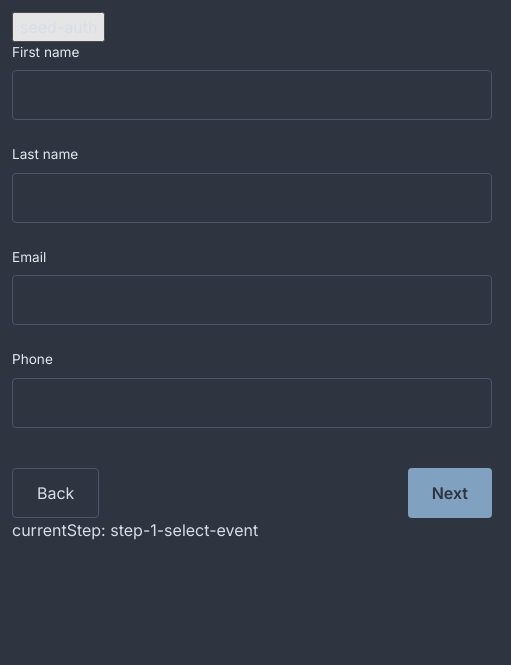
it: YourDetailsStep › no puede avanzar si deja algún campo vacío (Context.md 5.4: todos obligatorios)
intenta enviar con los campos vacíos
Click the button "Next" at (450, 493), box [408, 468, 492, 518]
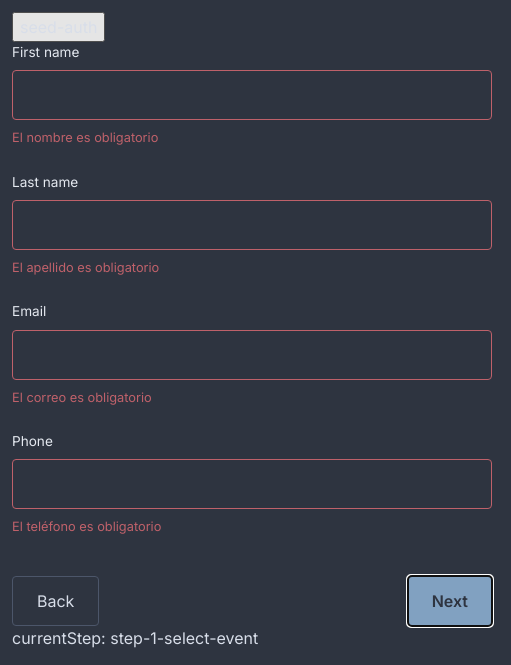
Expected: the text "El nombre es obligatorio" is shown, [12, 130, 158, 145]
Expected: the text "El apellido es obligatorio" is shown, [12, 260, 159, 275]
Expected: the text "El correo es obligatorio" is shown, [12, 390, 152, 404]
